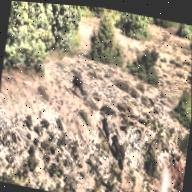boar: (66, 67, 92, 110), (93, 107, 112, 142), (108, 131, 123, 167)
